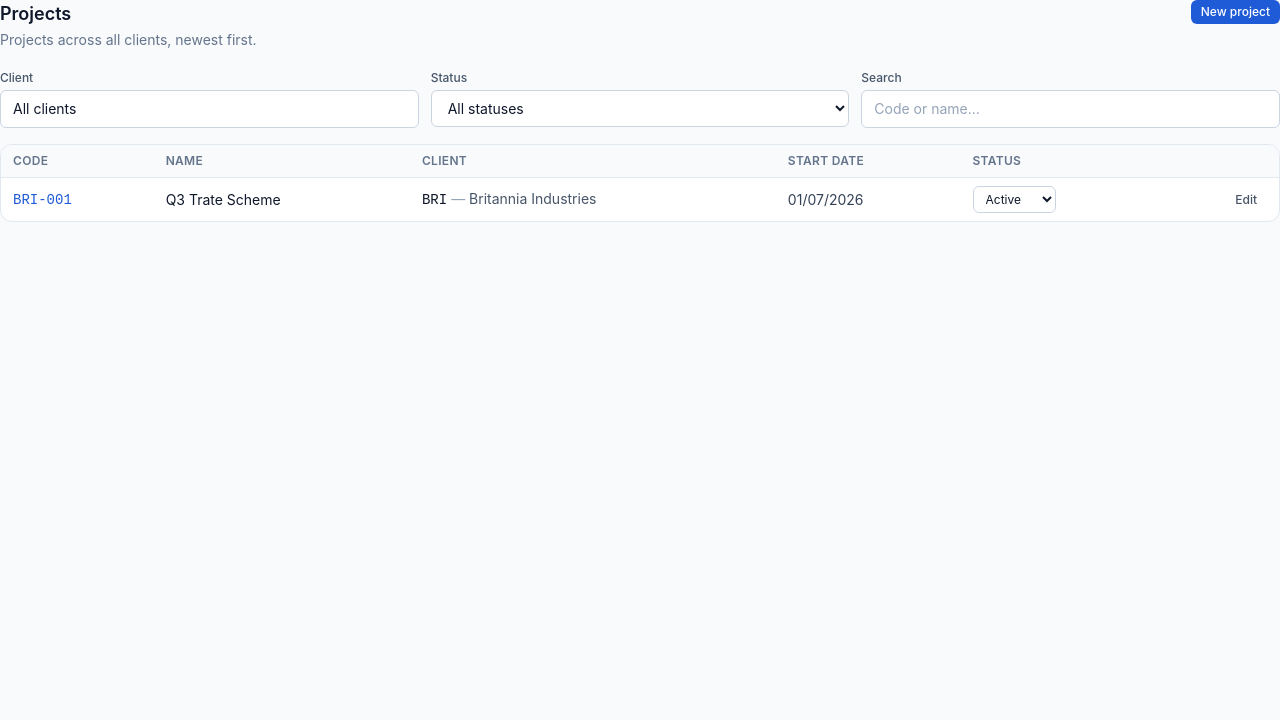
Scenario: ProjectsList — edit project (MANAGE) › surfaces a backend 422 and keeps the edit modal open
Click the button with aria-label "edit BRI-001" at (1246, 200), box [1225,188,1267,212]
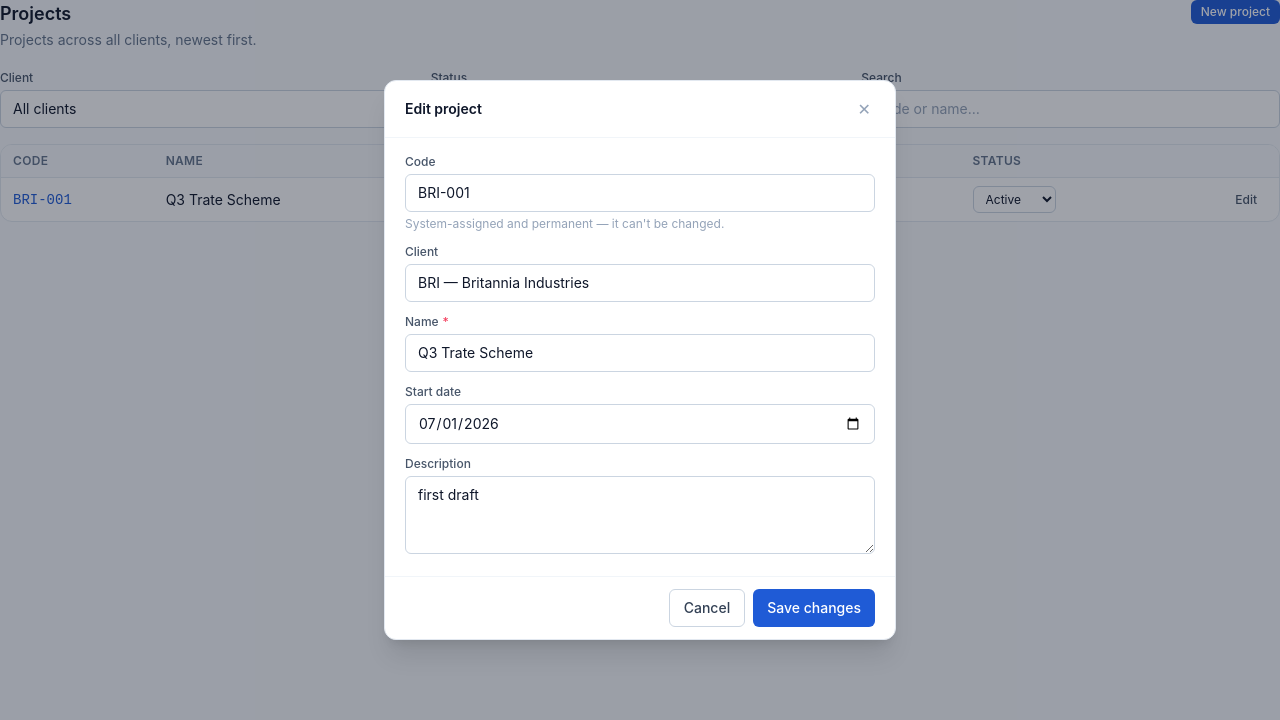
Replace the text in the field labelled "Name *" with "Something" at (640, 353), box [405,334,875,372]
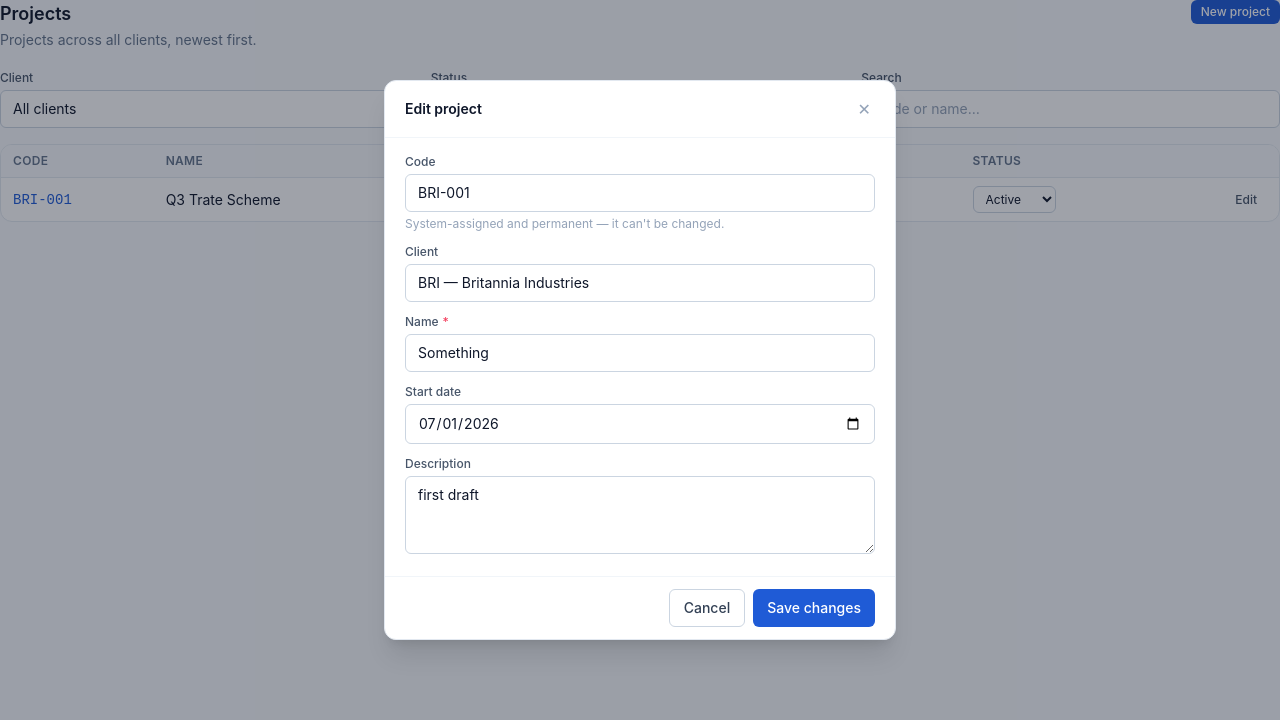
Click the button "Save changes" at (814, 608), box [753,589,875,627]
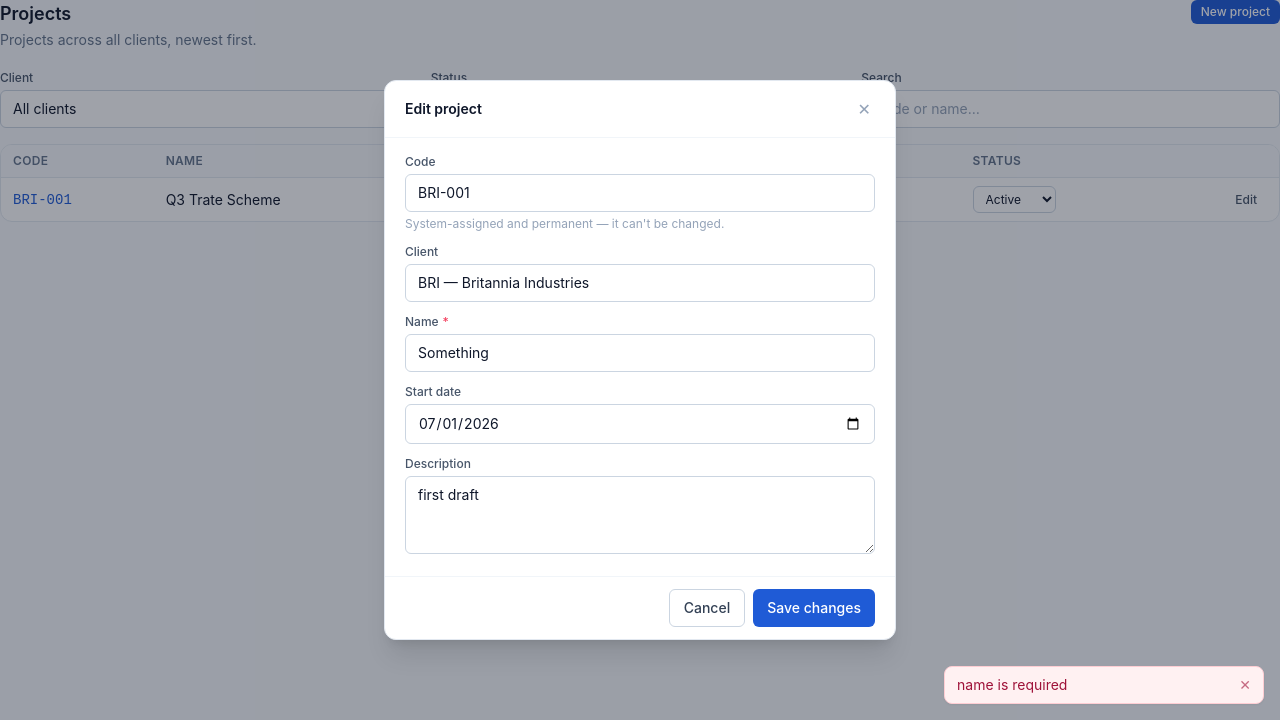
Check: the dialog is shown, box [384,80,896,640]
Check: the text "name is required" is shown, box [957,676,1067,693]
